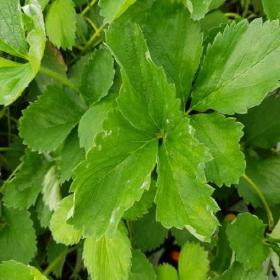Powdery Mildew Leaf: (64, 107, 159, 244), (103, 18, 183, 137), (153, 117, 223, 243)
